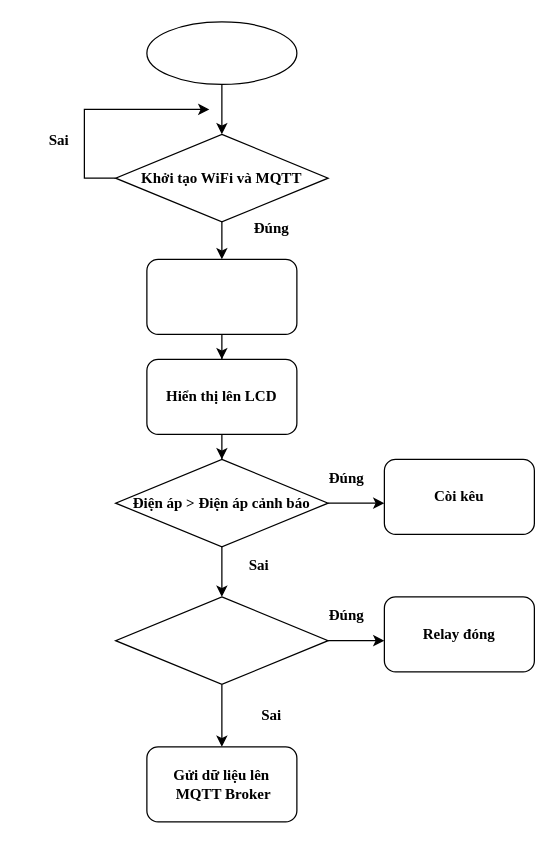
Some shapes in this 556 by 844 pixel diagram are drawn without their labels. Each missing label, with the box of its shape:
Bắt đầu: (146, 21, 297, 84)
Điện áp > Điện áp cắt: (114, 596, 328, 684)
Đọc dữ liệu cảm biến: (146, 258, 297, 334)
